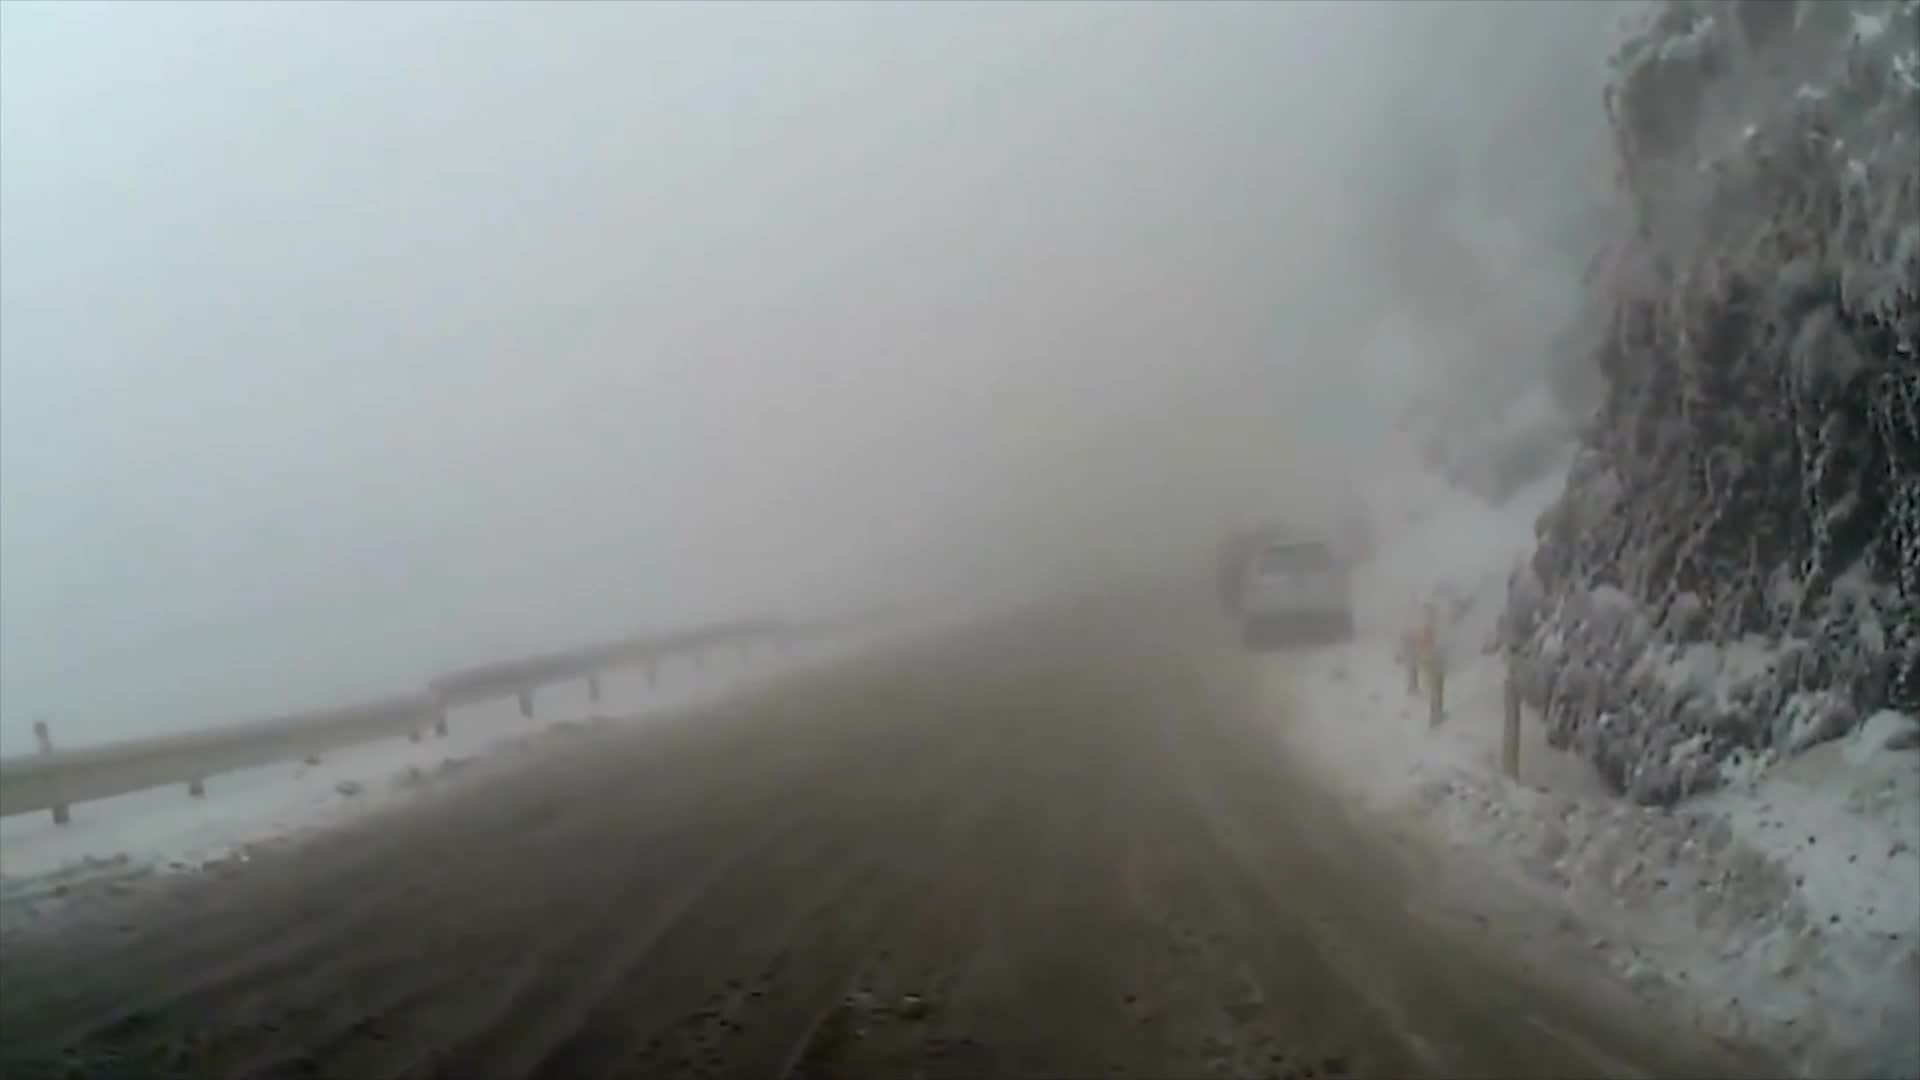vehicle: (1240, 530, 1356, 644)
